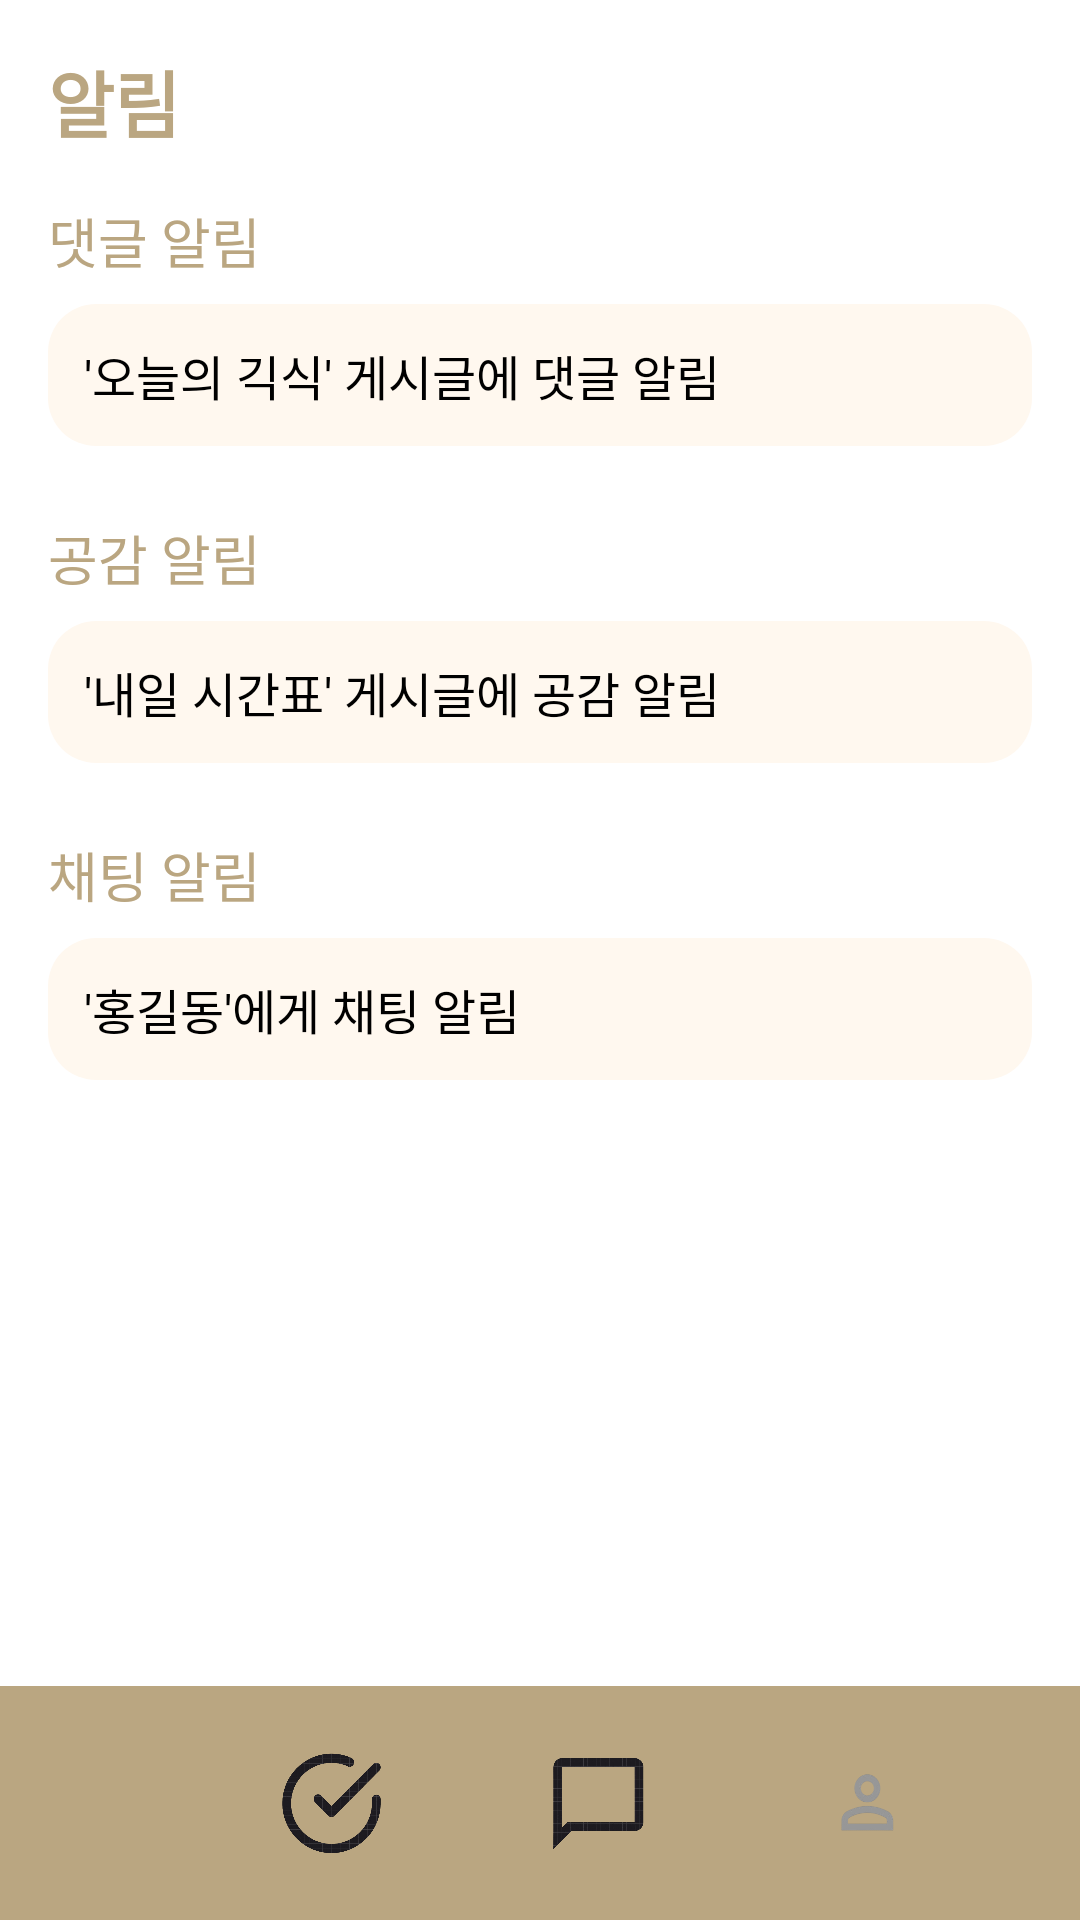

Named icons in this screenshot (1080x1920) and their bounding boxes, (x1, y1, x2, y2):
chat: (553, 1758, 644, 1849)
check: (282, 1754, 381, 1853)
mypage: (842, 1774, 893, 1830)
